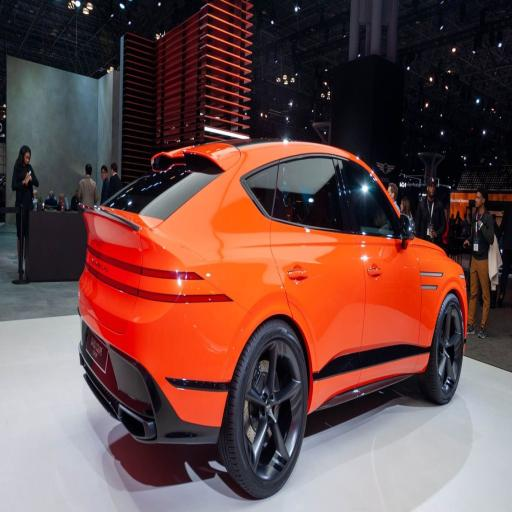Sedan-sDLz: (79, 138, 467, 504)
